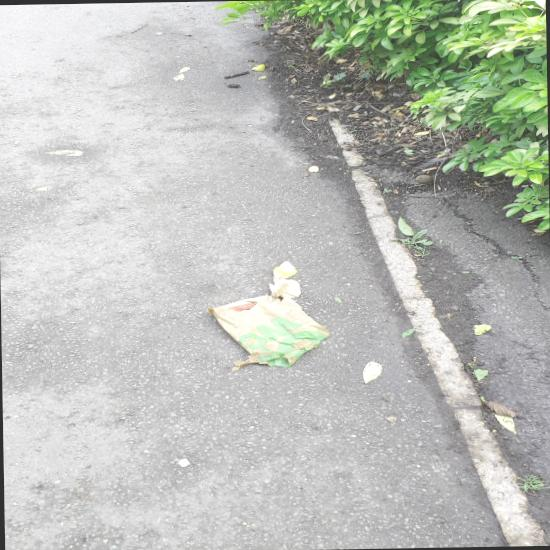Cigarette: (422, 167, 436, 172)
Paper bag: (207, 261, 330, 367)
